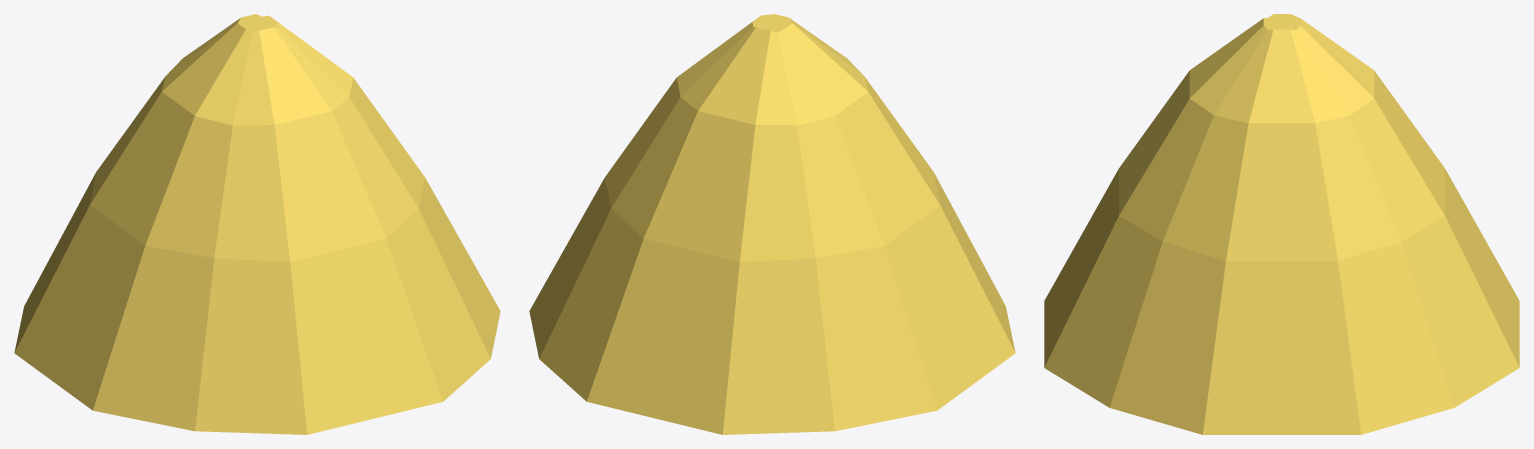
Rendered from seeds_3.glb.
The picture shows the model from 3 angles, left to right: view 1: azimuth 30°, elevation 25°; view 2: azimuth 150°, elevation 25°; view 3: azimuth 270°, elevation 25°; orthographic projection.
Parts seen in each view (by area): view 1: seeds_3; view 2: seeds_3; view 3: seeds_3.
Part boxes in pixels (x1,y1,x2,y2): seeds_3: [14, 14, 500, 434]; seeds_3: [529, 14, 1015, 434]; seeds_3: [1044, 14, 1519, 434].
Bounding box in the file's own units: 2.88 × 2.09 × 2.88.
Materials: 1 (1 with a texture image).
